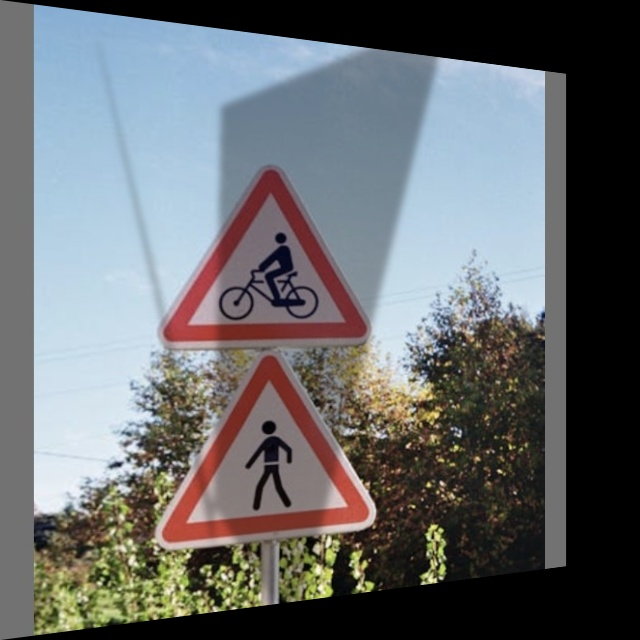Cycle_Crossing: (154, 154, 370, 352)
